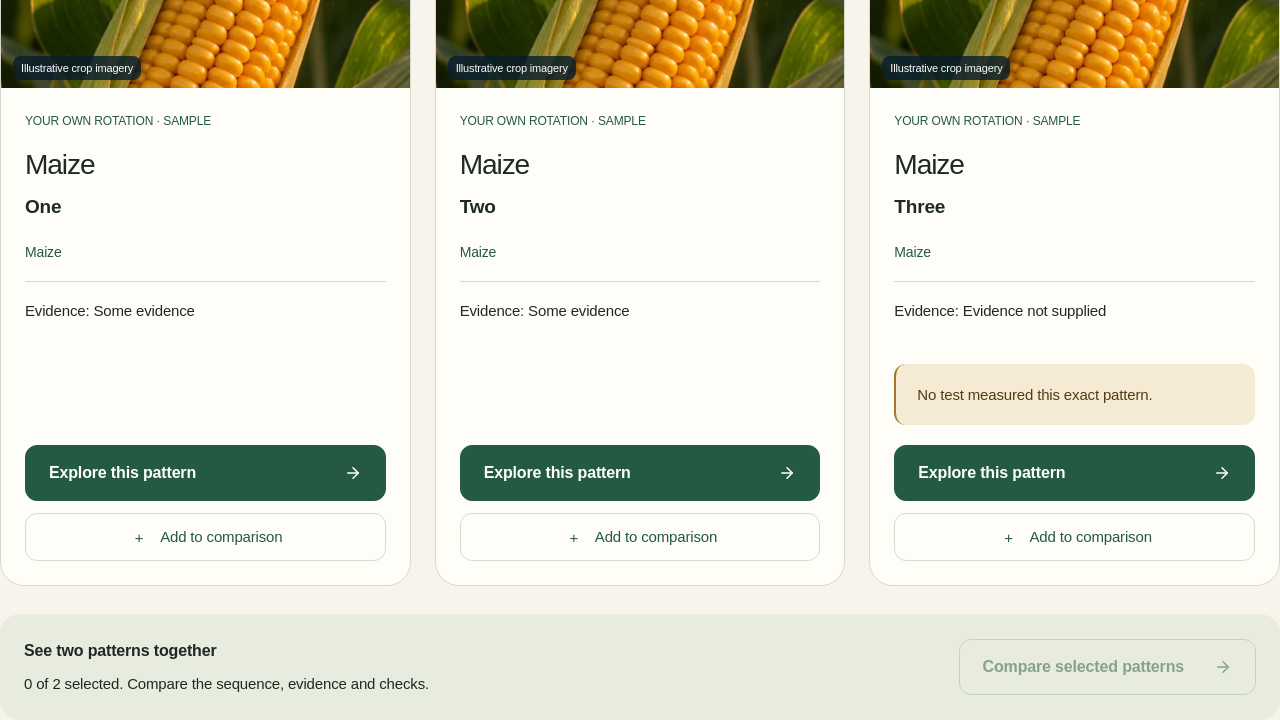
Test: rotation discovery › shows every pattern without selecting a winner and counts opened patterns only once
This screenshot has width=1280, height=720.
(page scrolled)
Expected: the text "No test measured this exact pattern." is shown, left=894, top=364, right=1255, bottom=425
Expected: the text "Full server warnings for One" is not shown
Click the button with aria-label "Explore this pattern: One".
click(123, 473)  # box left=25, top=445, right=386, bottom=501
(page scrolled)
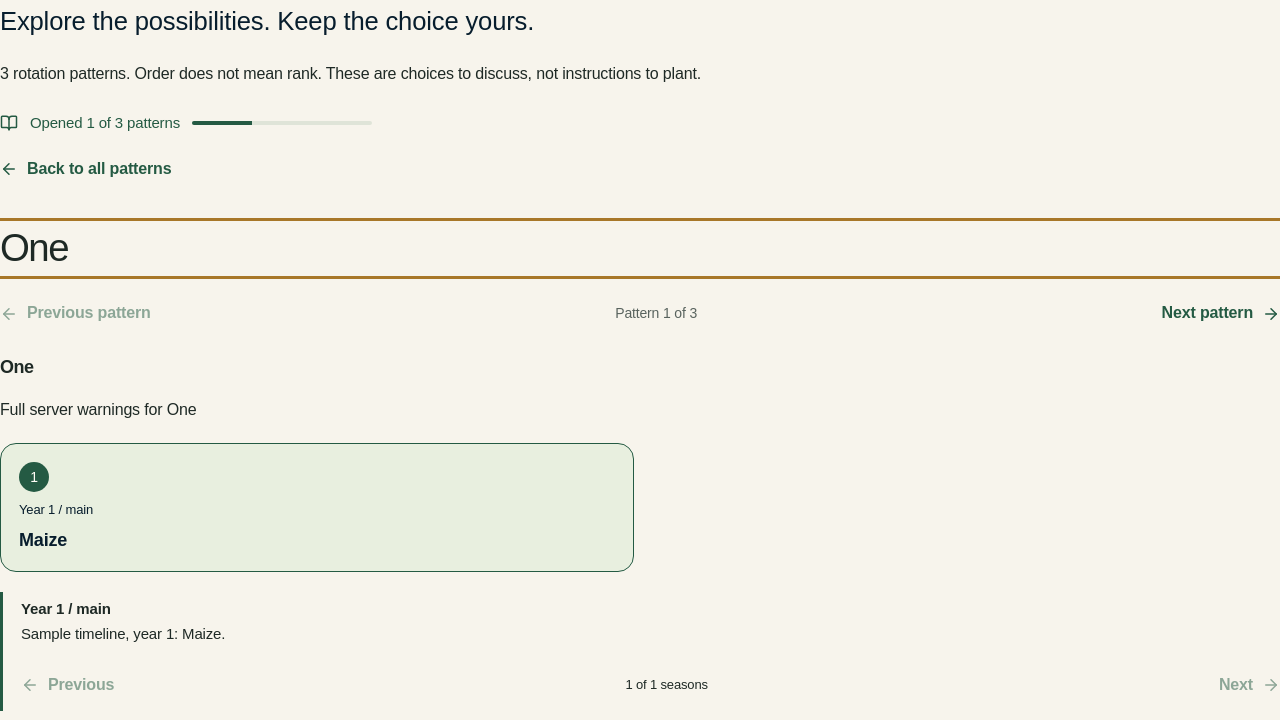
Now the text "Full server warnings for One" is shown, box left=0, top=401, right=196, bottom=418
Now the text "Opened 1 of 3 patterns" is shown, box left=30, top=111, right=180, bottom=136
Click the button "Back to all patterns".
click(86, 169)  # box left=0, top=147, right=171, bottom=191
(page scrolled)
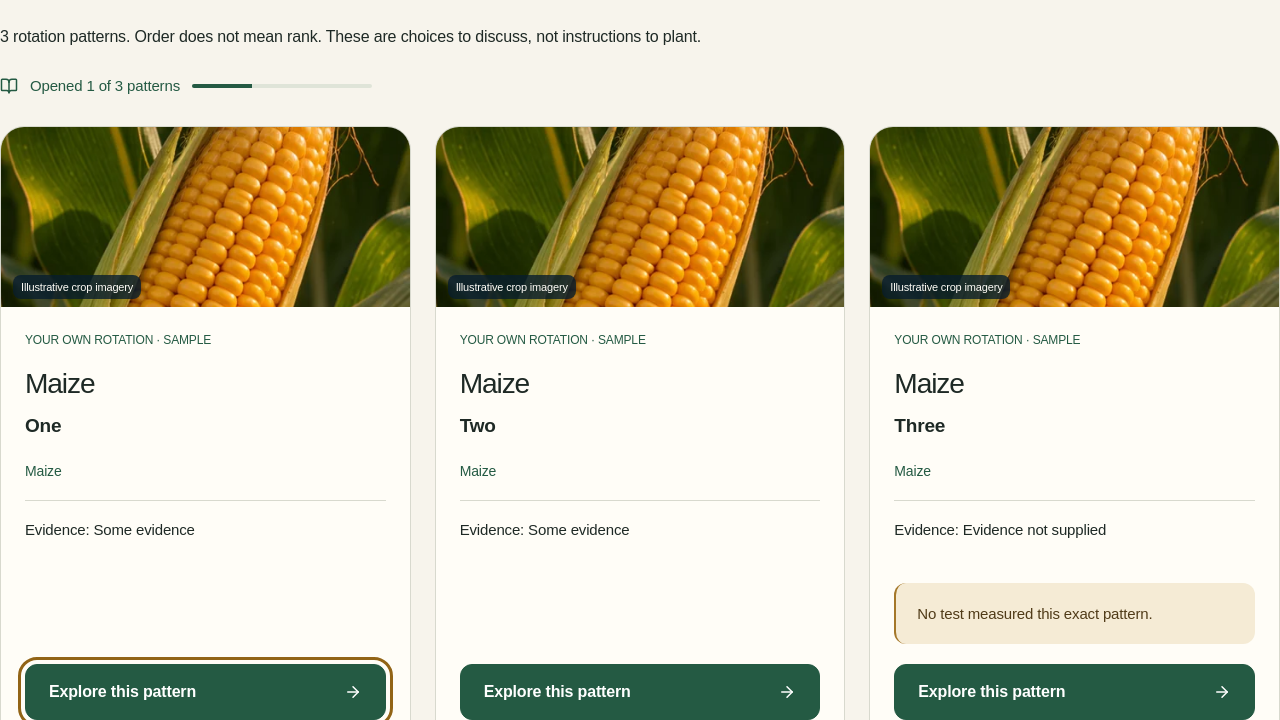
Click the button with aria-label "Explore this pattern: One".
click(123, 692)  # box left=25, top=664, right=386, bottom=719
(page scrolled)
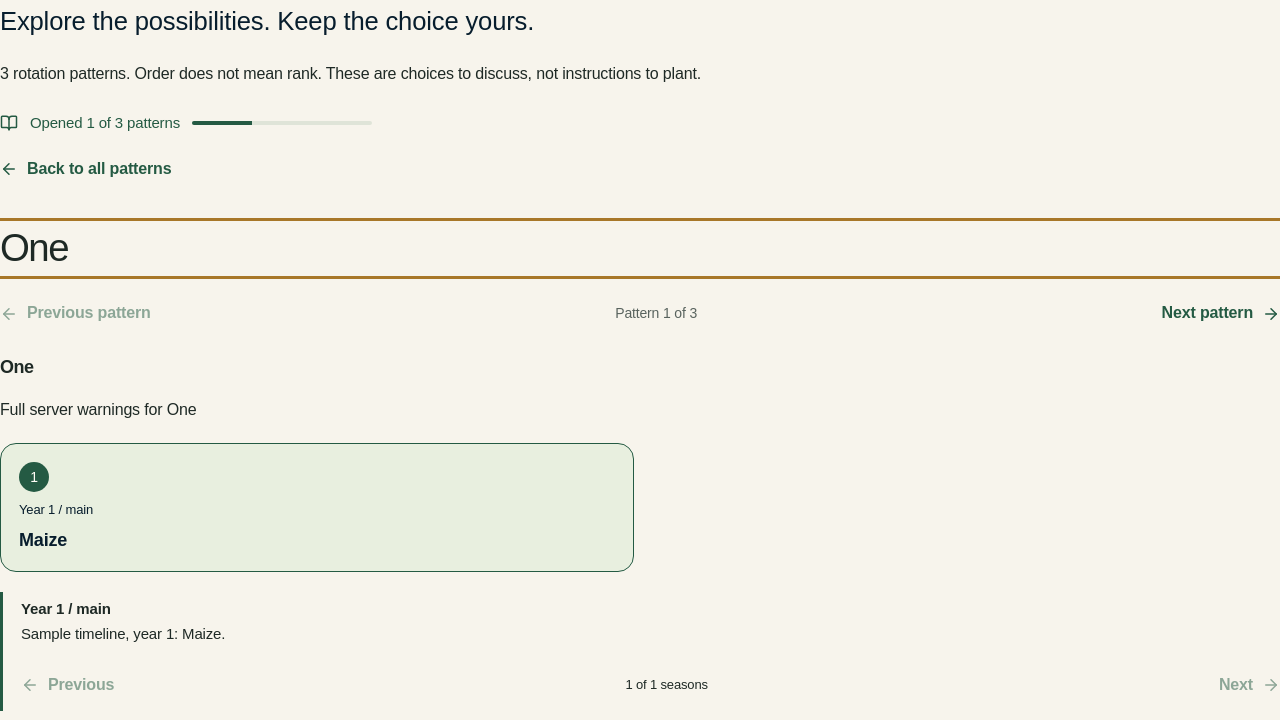
Now the text "Opened 1 of 3 patterns" is shown, box left=30, top=111, right=180, bottom=136
Click the button "Next pattern".
click(1221, 314)  # box left=1162, top=292, right=1279, bottom=336
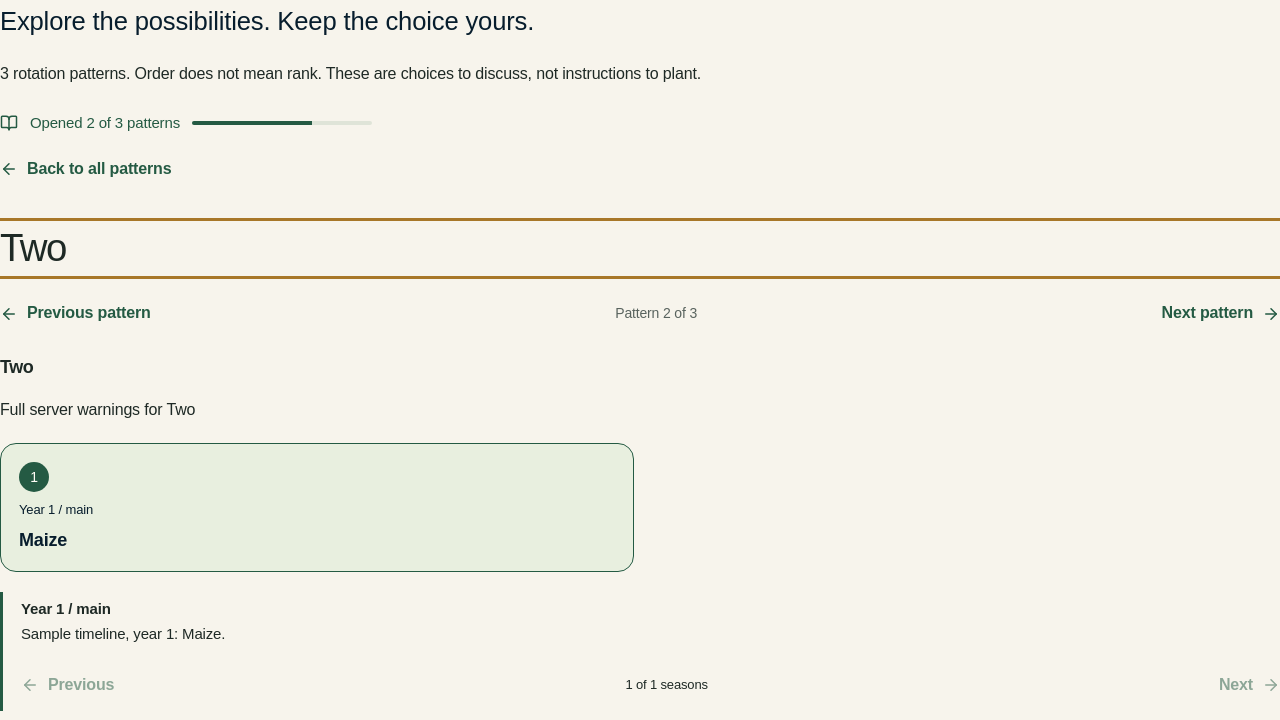
Now the text "Opened 2 of 3 patterns" is shown, box left=30, top=111, right=180, bottom=136
Now the text "Full server warnings for Two" is shown, box left=0, top=401, right=195, bottom=418
